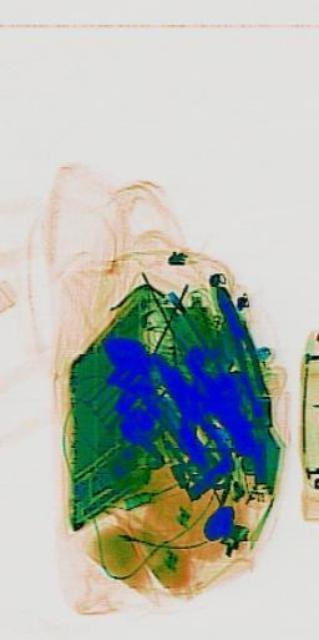Pliers: (206, 272, 271, 416)
